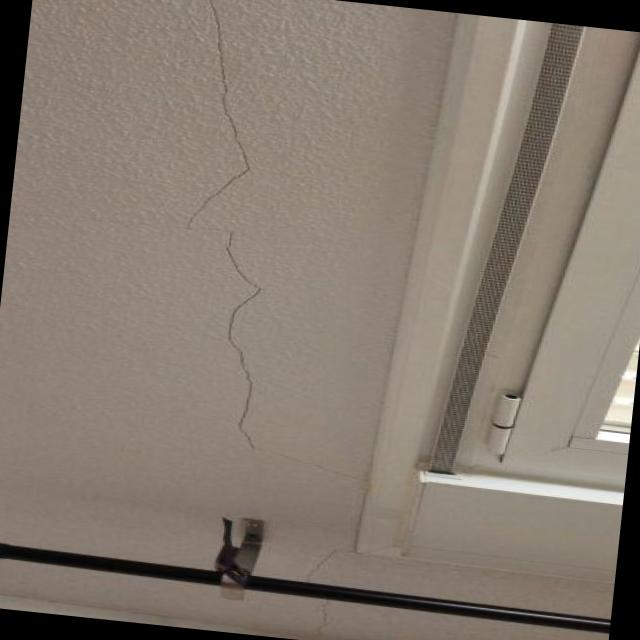crack: (166, 0, 364, 484)
